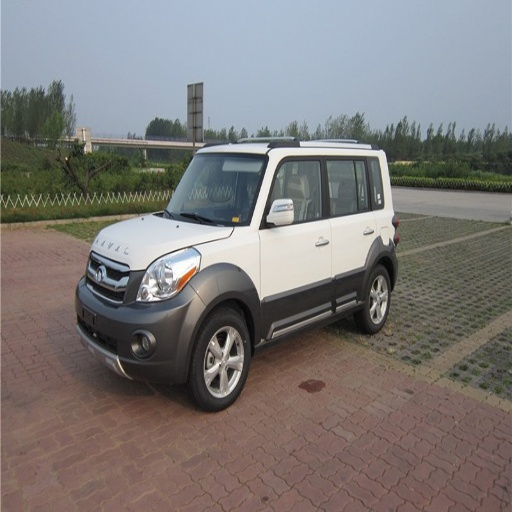front_bumper: (75, 253, 205, 382)
front_glass: (158, 156, 268, 225)
front_left_door: (261, 155, 333, 327)
